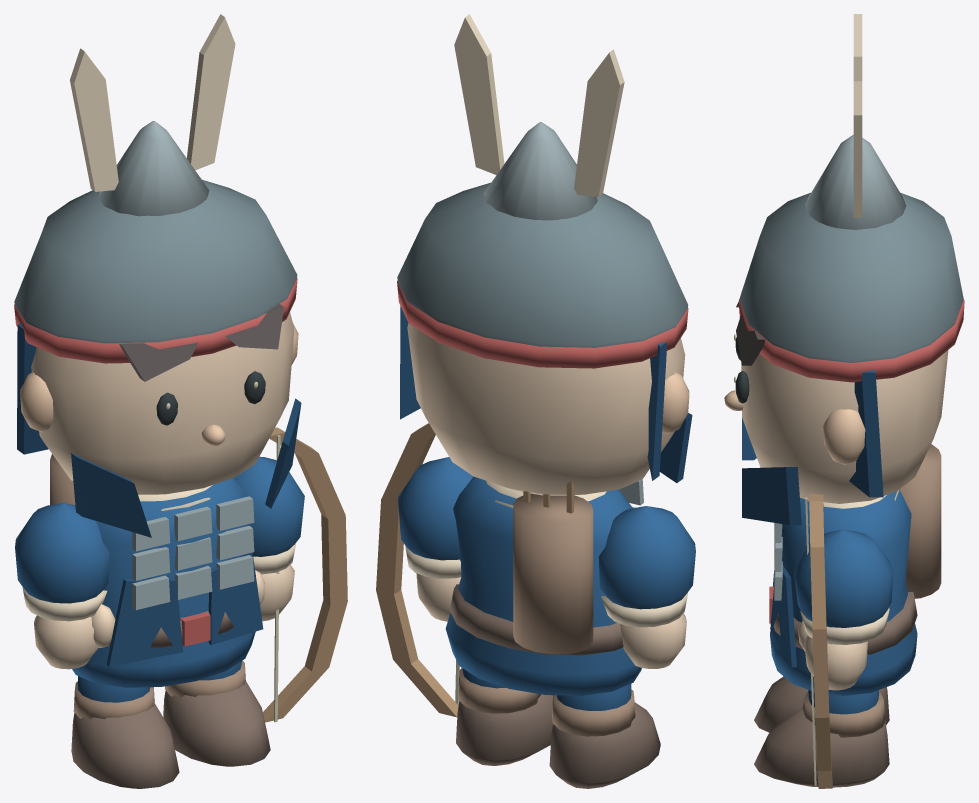
File: archer.glb
3 renders of one model, left to right at view 1: azimuth 30°, elevation 25°; view 2: azimuth 150°, elevation 25°; view 3: azimuth 270°, elevation 25°, orthographic. The views are drawn at different scales.
Parts seen in each view (by area): view 1: Regional helmet, Soft cheek head, Short folded tunic, Puff sleeve, Curved bow, Round leather boot, Round leather boot.001, Goguryeo pointed crown, Feather plume.001, Feather plume, Puff sleeve.001, Coat fold (+29 smaller); view 2: Regional helmet, Soft cheek head, Short folded tunic, Quiver leather, Puff sleeve, Curved bow, Goguryeo pointed crown, Helmet brow band, Round leather boot, Puff sleeve.001, Round leather boot.001, Feather plume.001 (+13 smaller); view 3: Regional helmet, Soft cheek head, Short folded tunic, Puff sleeve.001, Round leather boot.001, Goguryeo pointed crown, Quiver leather, Curved bow, Helmet brow band, Hood cheek cowl R, Lamellar neck flap.001, Little mitten.001 (+11 smaller).
Boxes of the visible parts, x1,y1,x2,y2 form: Regional helmet: [14, 179, 297, 343]; Soft cheek head: [31, 312, 294, 494]; Short folded tunic: [72, 478, 255, 687]; Puff sleeve: [15, 503, 109, 603]; Curved bow: [263, 427, 347, 722]; Round leather boot: [71, 703, 179, 788]; Round leather boot.001: [163, 681, 270, 766]; Goguryeo pointed crown: [98, 121, 209, 216]; Feather plume.001: [187, 14, 235, 170]; Feather plume: [70, 48, 118, 191]; Puff sleeve.001: [234, 456, 304, 556]; Coat fold: [106, 579, 182, 666]; Regional helmet: [397, 182, 688, 347]; Soft cheek head: [407, 323, 685, 495]; Short folded tunic: [445, 476, 641, 695]; Quiver leather: [513, 493, 593, 654]; Puff sleeve: [598, 506, 695, 609]; Curved bow: [376, 423, 458, 717]; Goguryeo pointed crown: [483, 122, 597, 220]; Helmet brow band: [397, 281, 688, 368]; Round leather boot: [549, 702, 660, 788]; Puff sleeve.001: [398, 457, 473, 560]; Round leather boot.001: [456, 694, 552, 765]; Feather plume.001: [454, 14, 504, 174]; Regional helmet: [740, 192, 963, 362]; Soft cheek head: [741, 350, 948, 503]; Short folded tunic: [770, 490, 917, 695]; Puff sleeve.001: [794, 529, 893, 627]; Round leather boot.001: [754, 707, 889, 787]; Goguryeo pointed crown: [805, 134, 906, 229]; Quiver leather: [899, 444, 941, 598]; Curved bow: [809, 493, 832, 788]; Helmet brow band: [738, 298, 964, 382]; Hood cheek cowl R: [742, 467, 801, 525]; Lamellar neck flap.001: [849, 370, 883, 497]; Little mitten.001: [804, 635, 867, 690].
Size of the model in its own units: 0.89 by 1.95 by 0.602.
